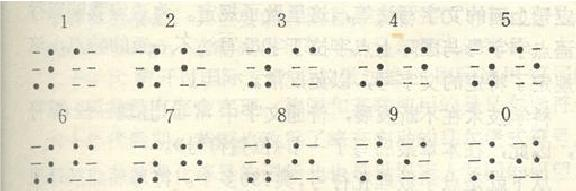Braille: (177, 44, 208, 91), (289, 139, 320, 186), (510, 140, 543, 184), (243, 141, 274, 186), (134, 45, 163, 93), (354, 140, 385, 184), (516, 44, 545, 90), (467, 139, 496, 185), (399, 140, 430, 183), (29, 142, 56, 189), (72, 46, 100, 91), (246, 44, 273, 90), (469, 44, 496, 90), (292, 45, 320, 88), (30, 45, 56, 91), (357, 45, 384, 89), (133, 142, 160, 186), (180, 141, 206, 186), (72, 141, 96, 187), (404, 46, 430, 88)
